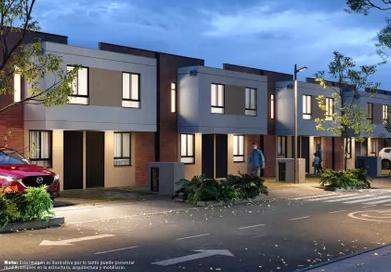casa: (3, 16, 162, 204), (163, 23, 272, 198), (272, 21, 344, 191)
